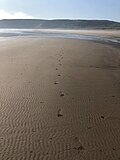human_foot_print: (71, 133, 86, 151), (54, 107, 66, 119), (58, 90, 68, 100), (52, 78, 59, 87), (56, 71, 63, 80)
